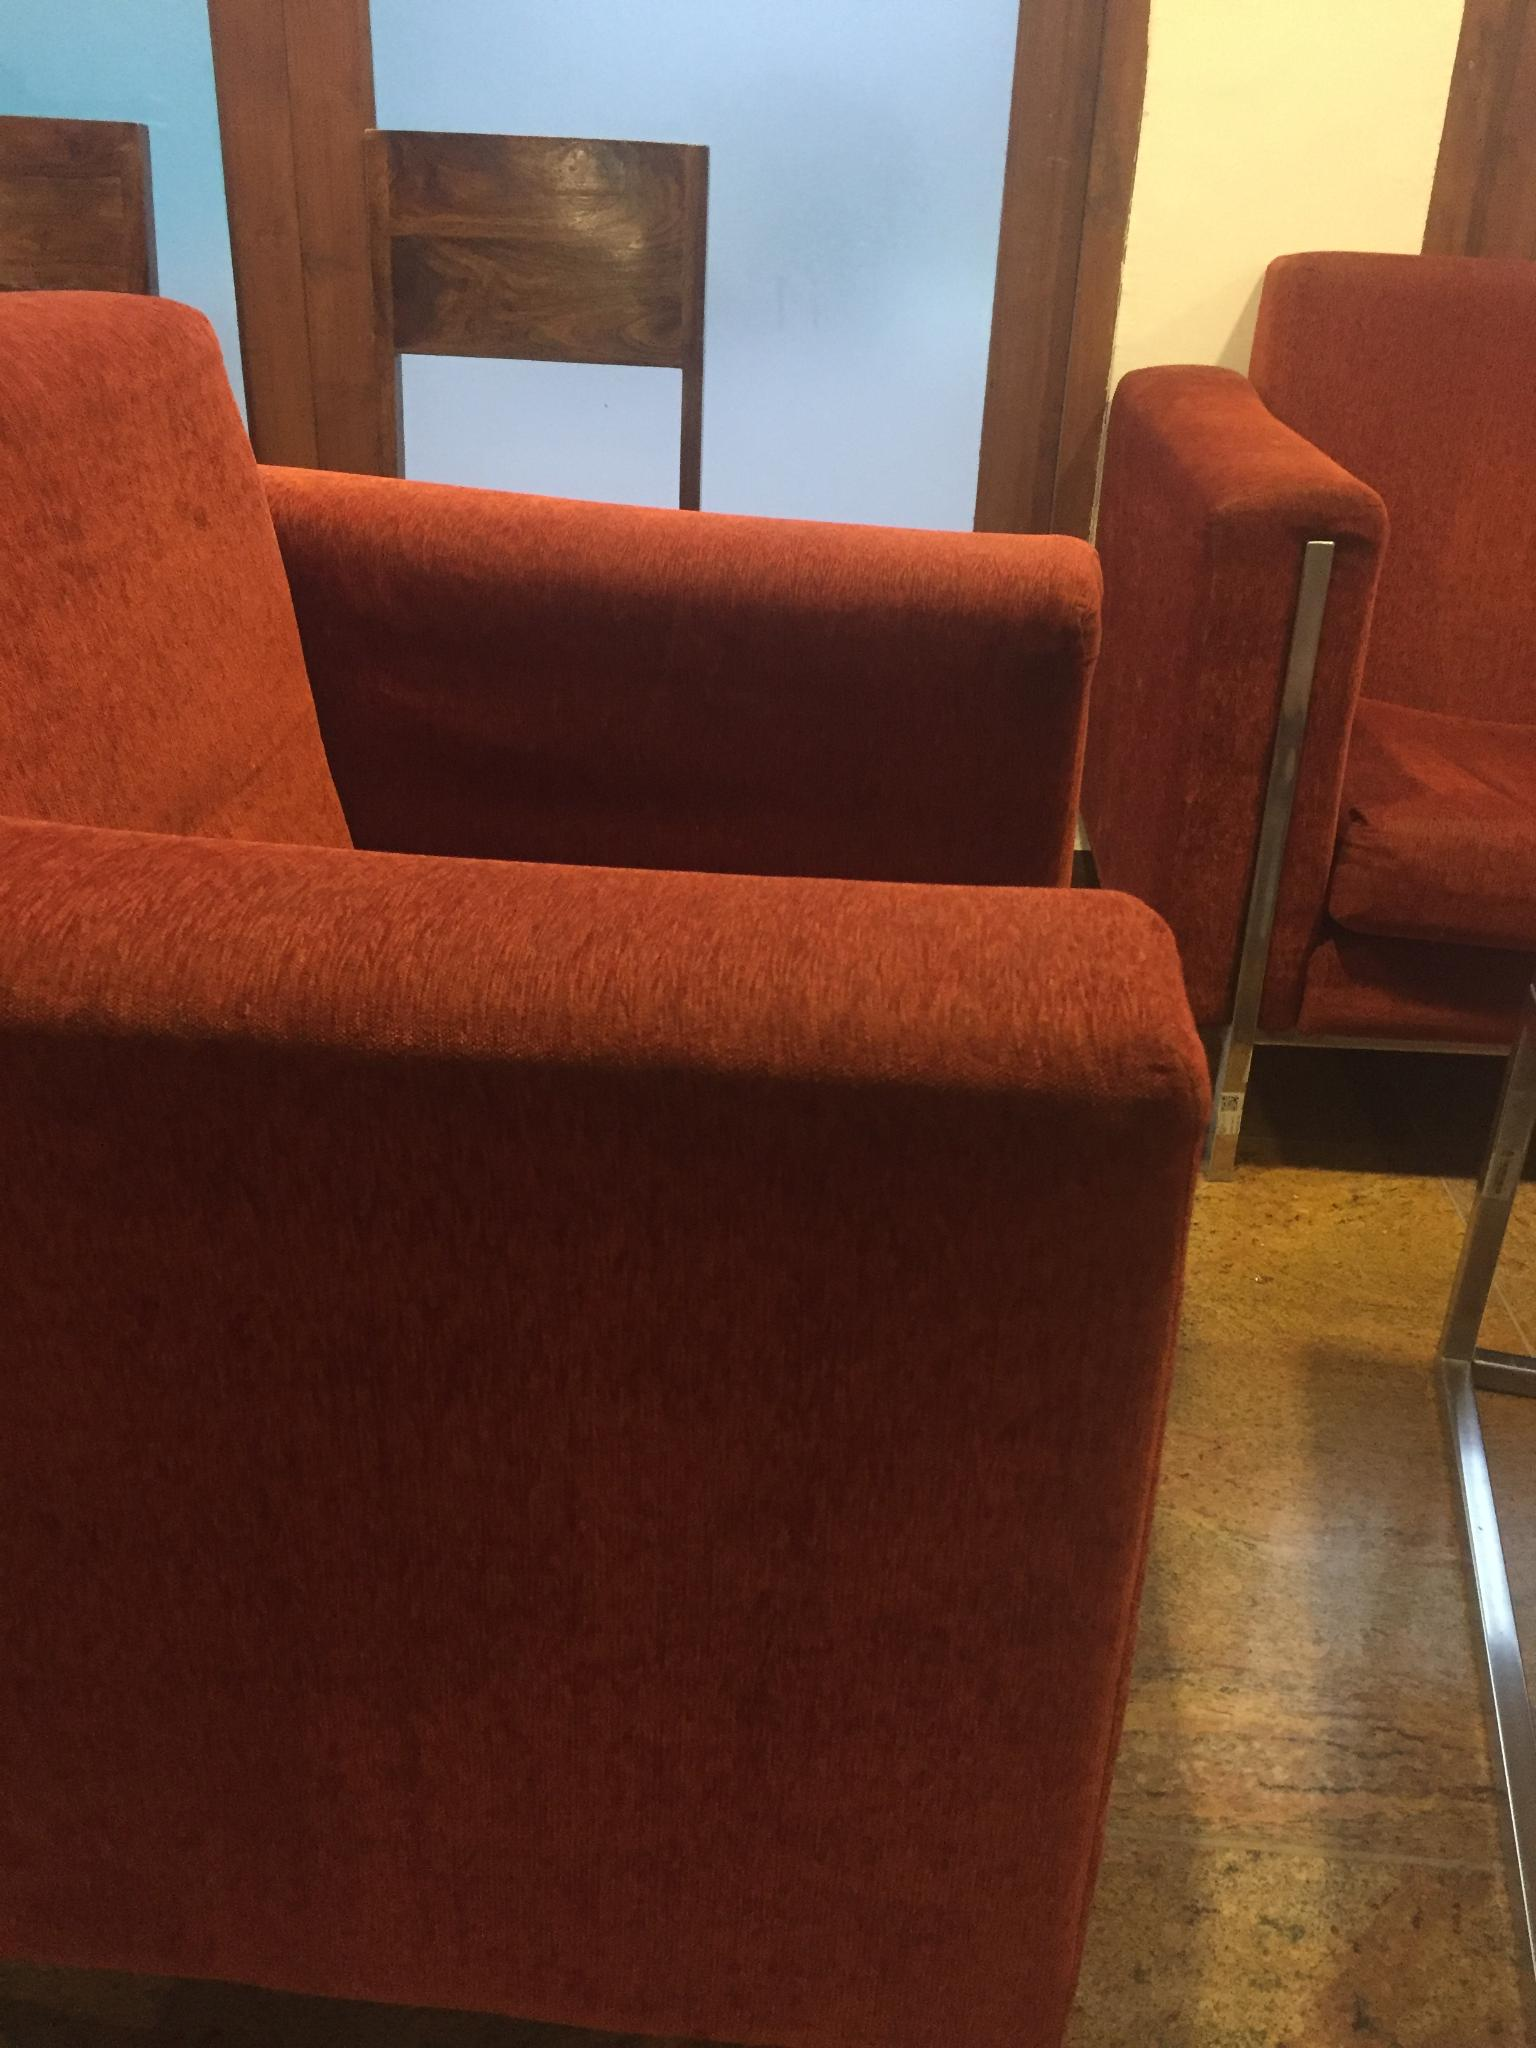chair: (334, 134, 729, 581), (0, 103, 195, 429)
